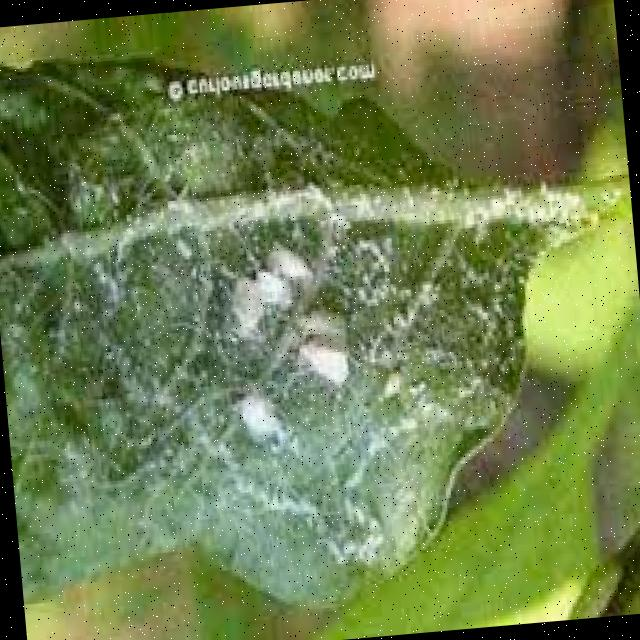whitefly: (0, 99, 633, 575)
